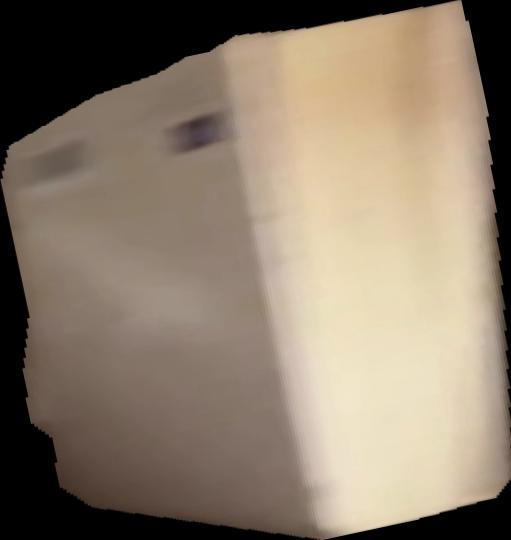backward: (1, 1, 511, 540)
